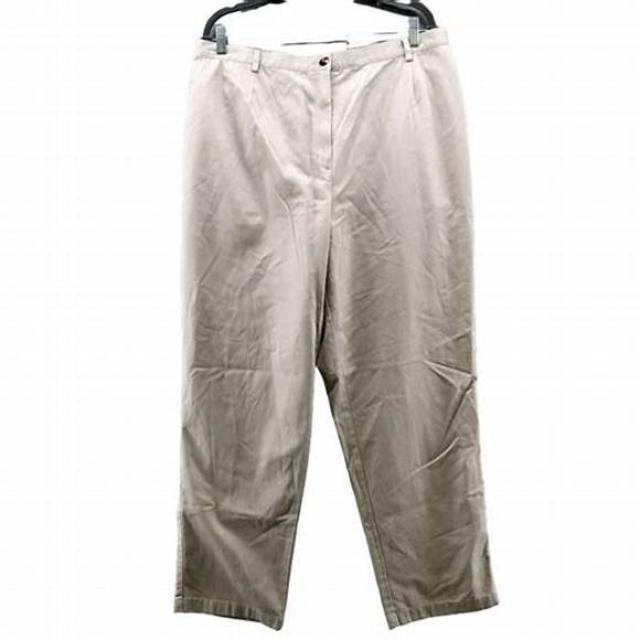long-pants: (170, 27, 497, 634)
